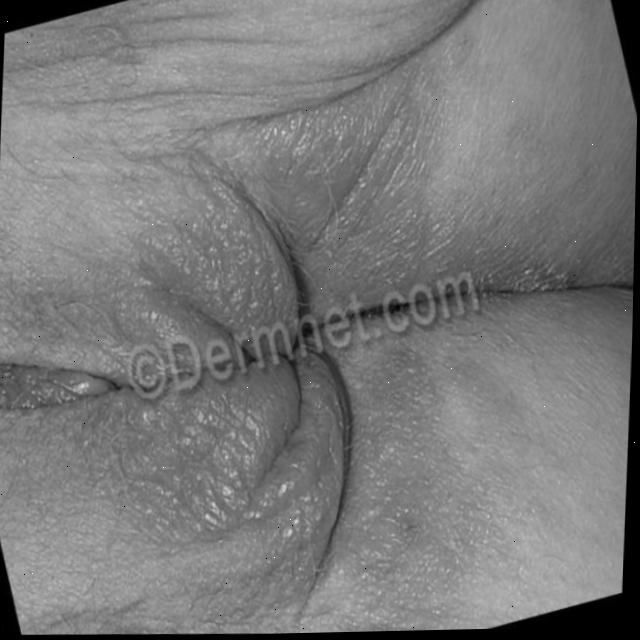Eczema: (135, 127, 473, 559)
